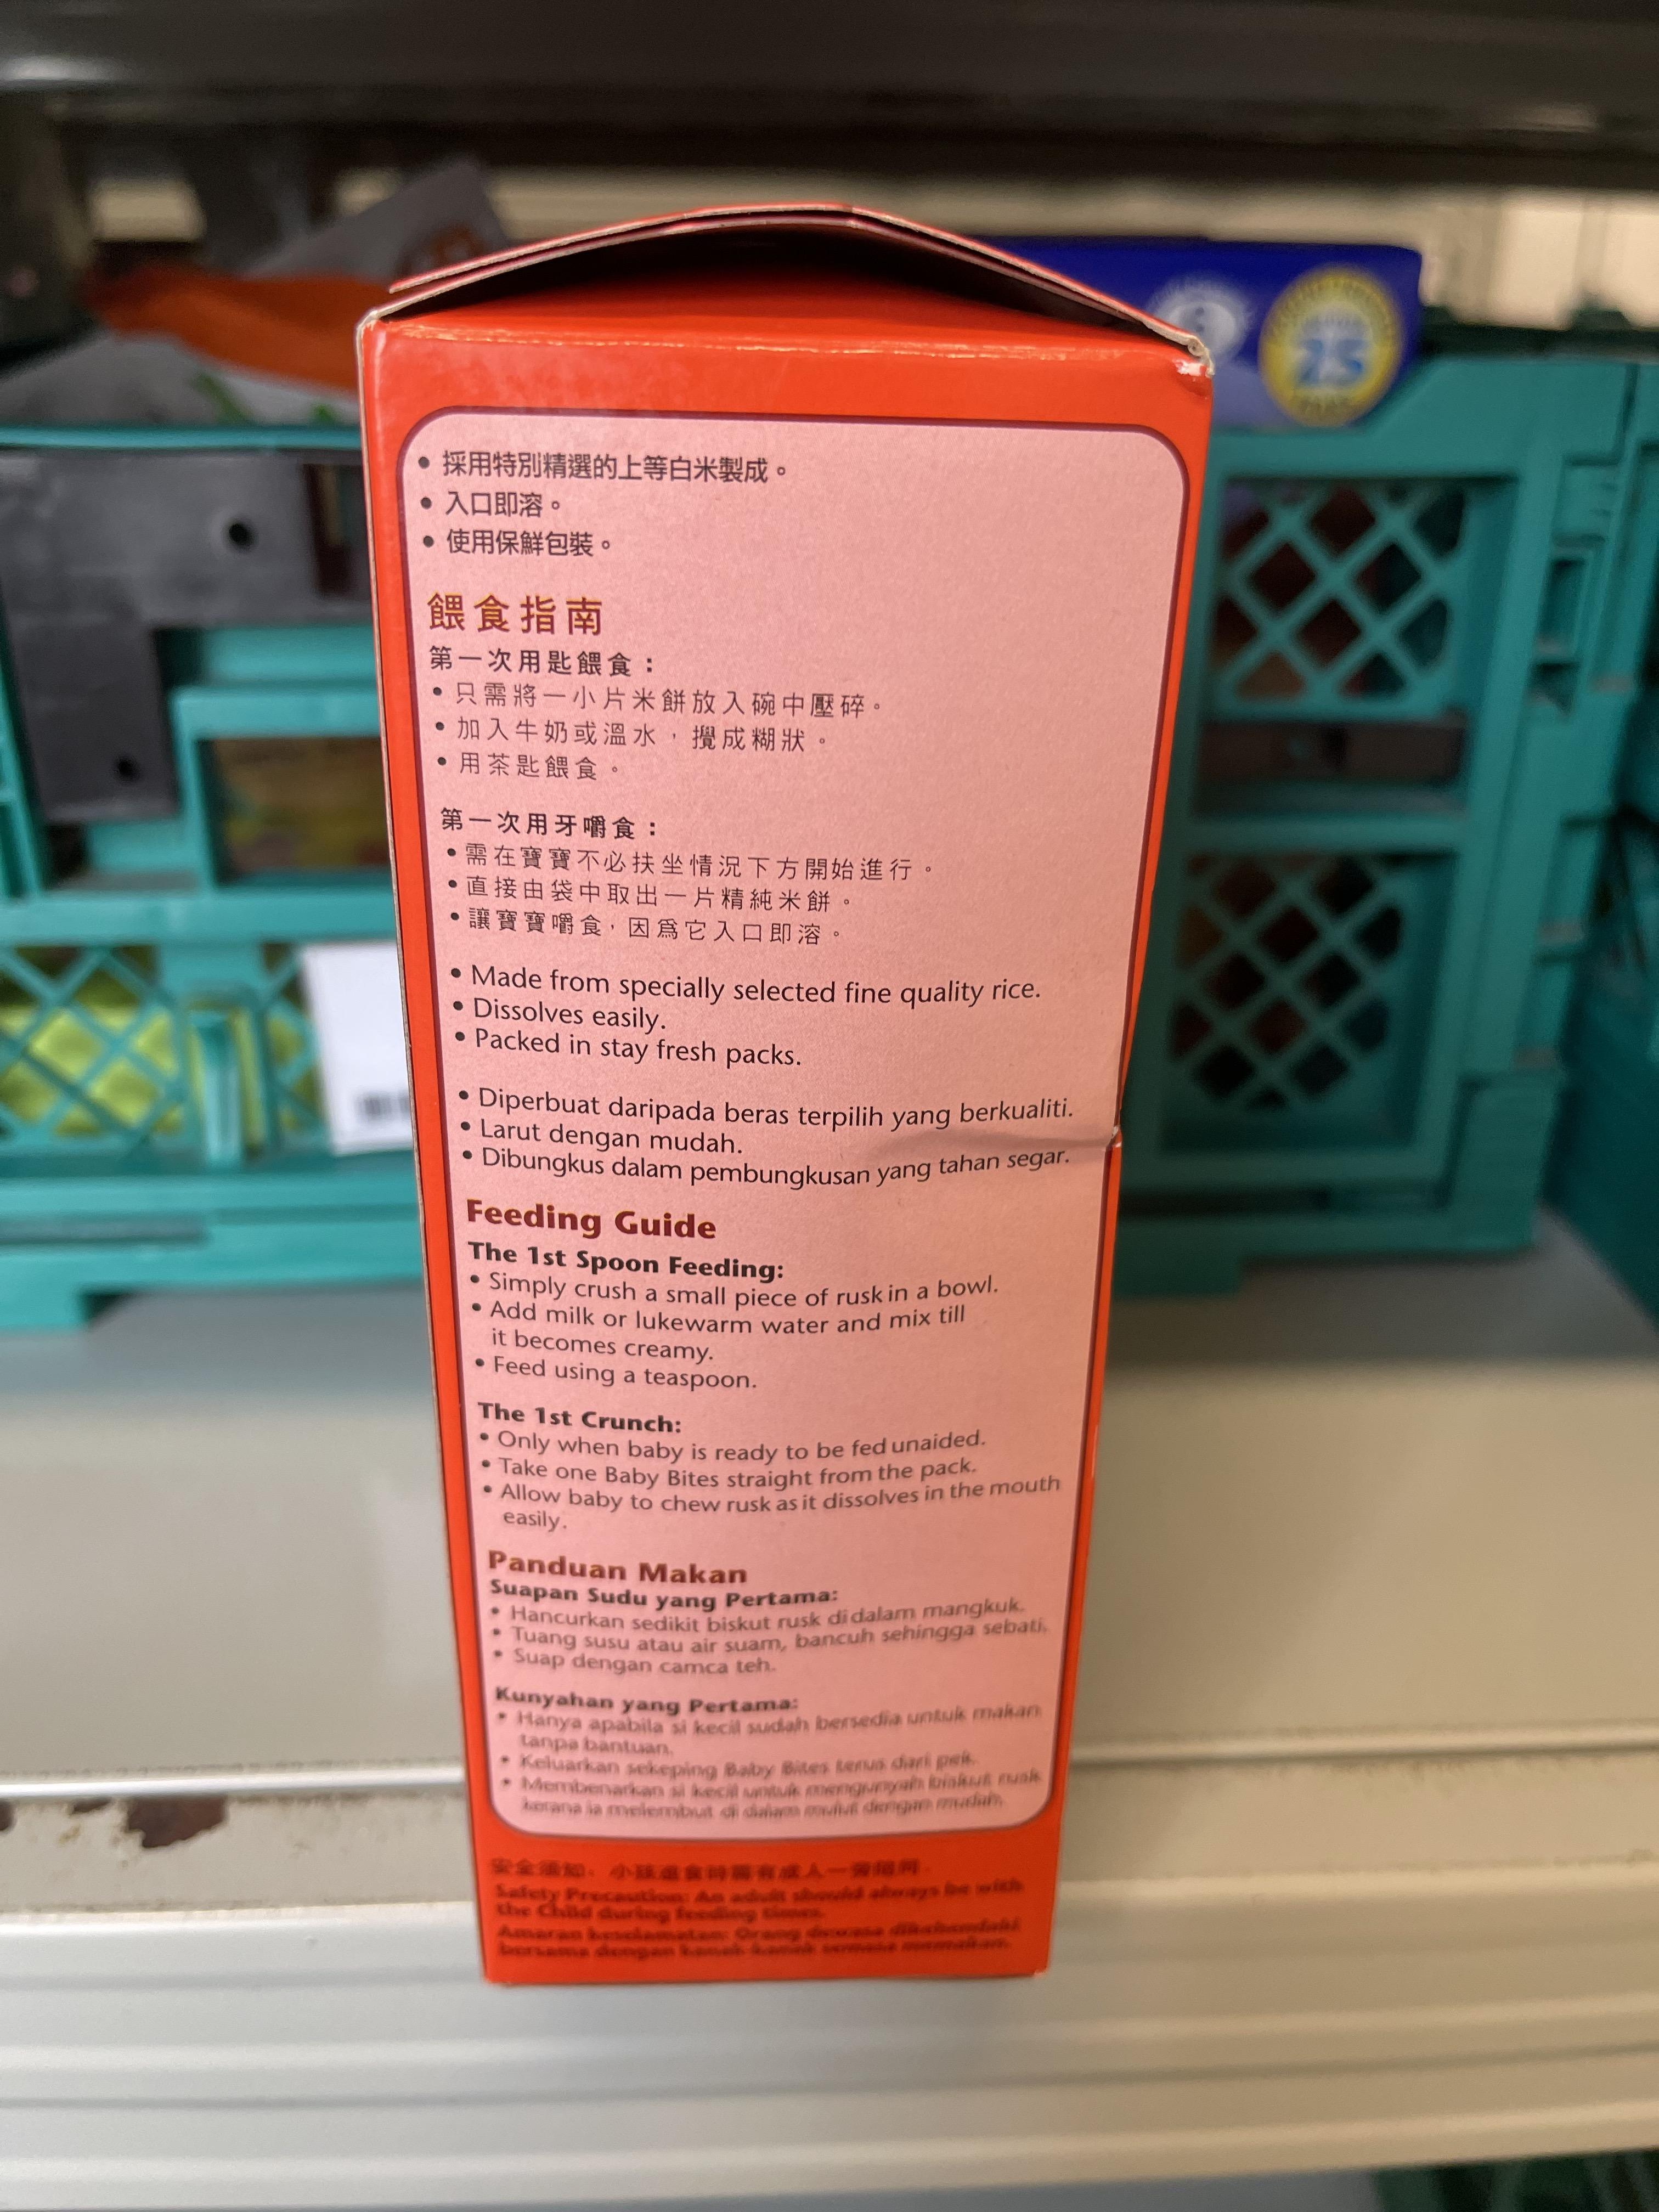object_name: (483, 357, 1157, 1946)
